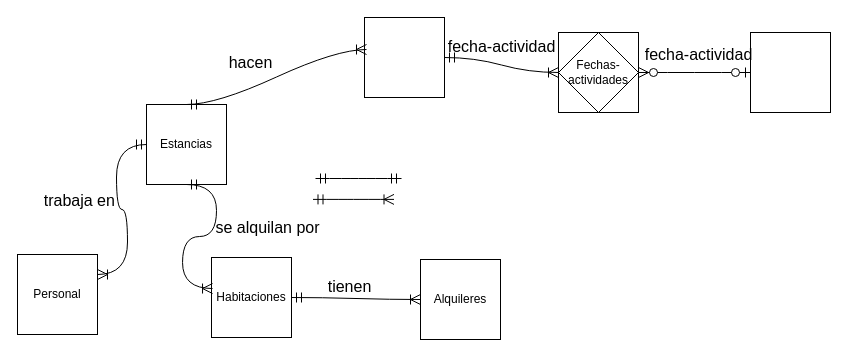
This 848x357 diagram has some shape labels left out. Each missing label, with the centre of its shape:
"Actividades" goes at pixel 404 57.
"Fechas" goes at pixel 790 72.
